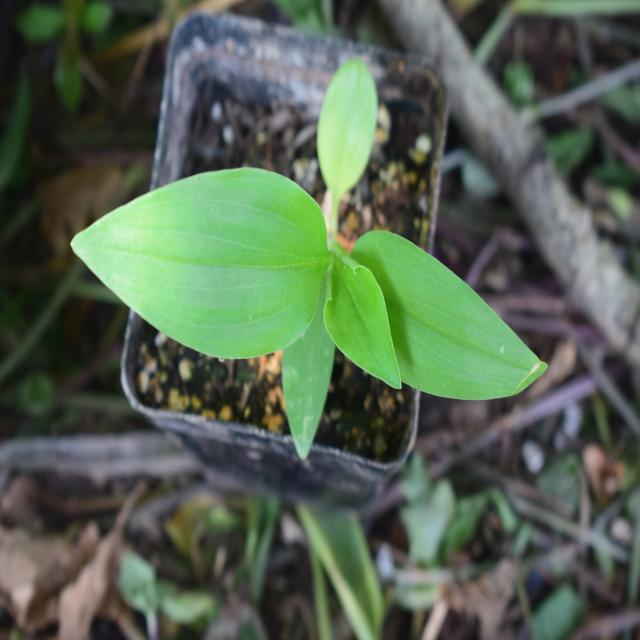Common Dayflower: (80, 158, 539, 471)
